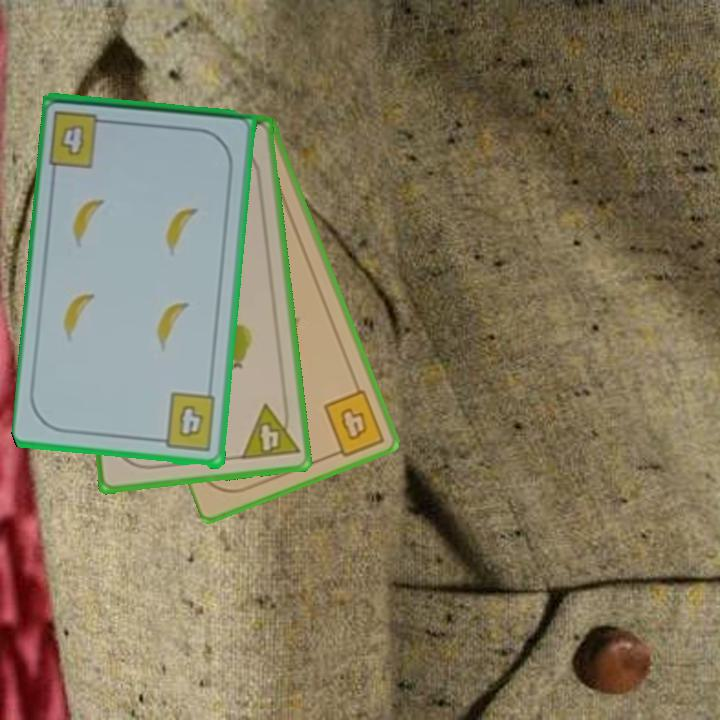4b: (320, 385, 387, 461), (46, 107, 115, 171), (152, 390, 219, 455)
4p: (237, 399, 302, 463)
